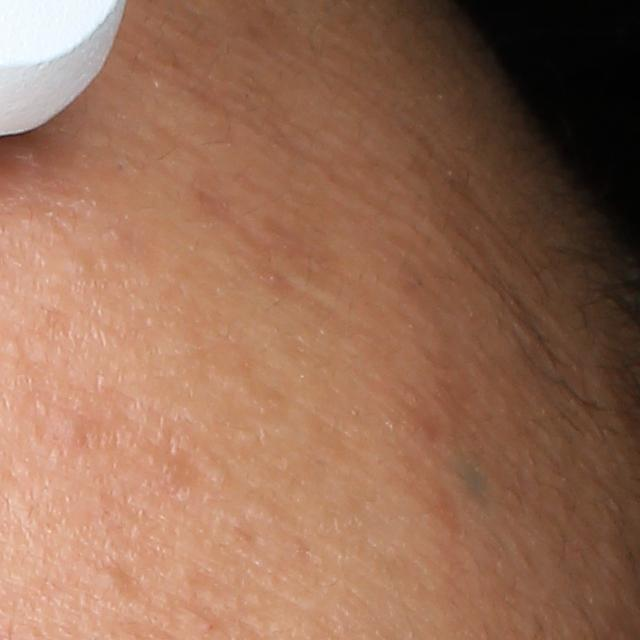comedo: (90, 568, 133, 599), (201, 455, 236, 487)
